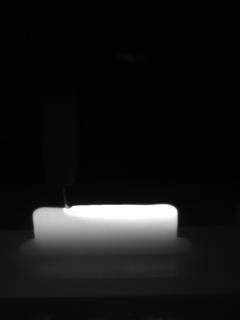tip_wire_left: (46, 181, 67, 208)
tip_wire_right: (65, 180, 76, 208)
